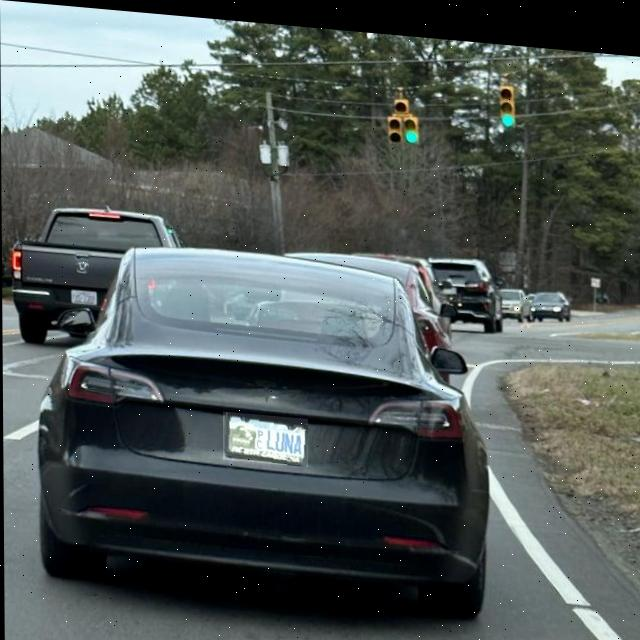LicensePlate: (223, 408, 307, 461)
